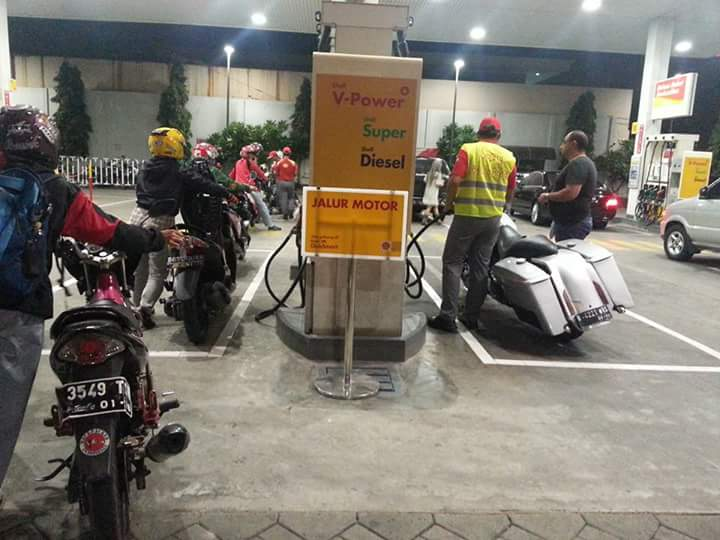plate: (56, 372, 126, 421)
